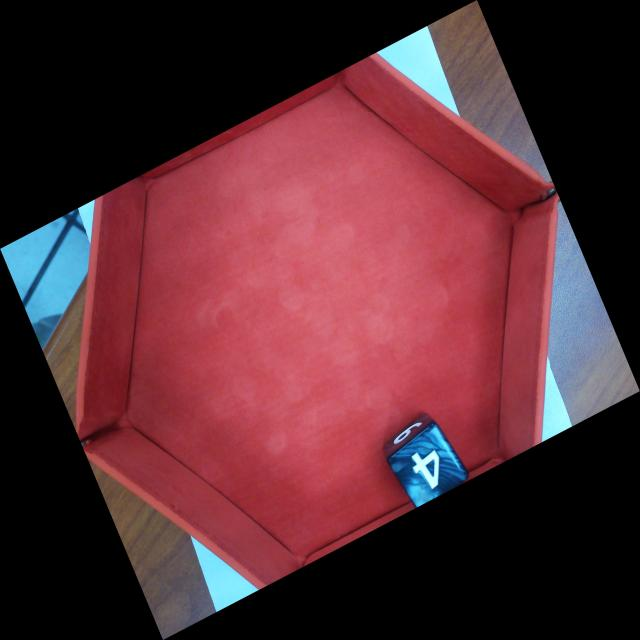dice: (393, 418, 471, 516)
